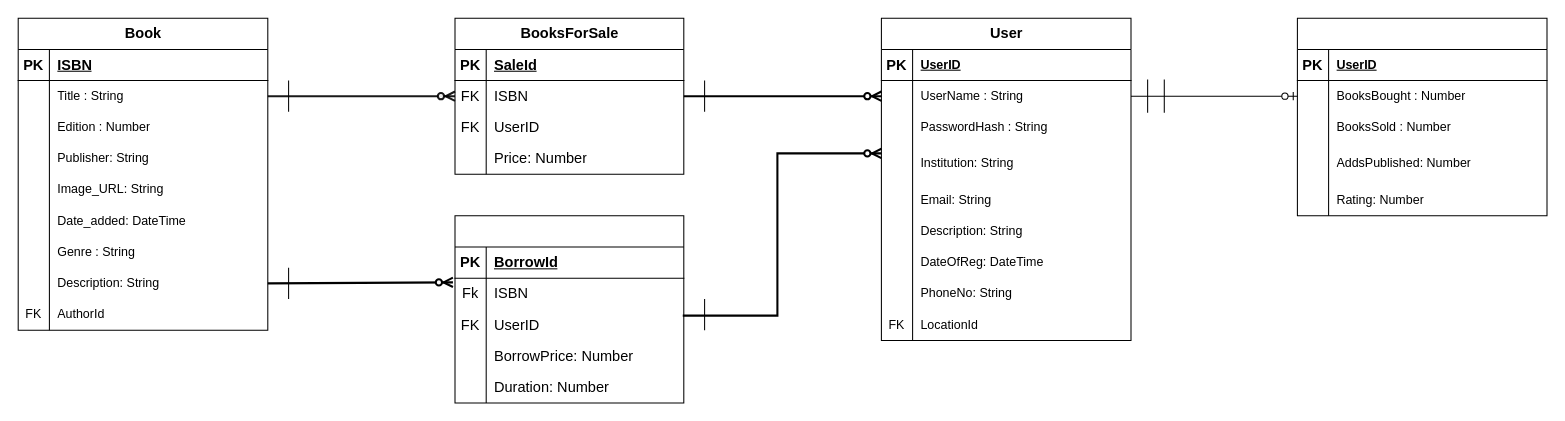
This 1565x421 diagram has some shape labels left out. Each missing label, with the box of its shape:
BooksForBorrow: (454, 215, 684, 403)
UserDetails: (1296, 17, 1547, 216)
